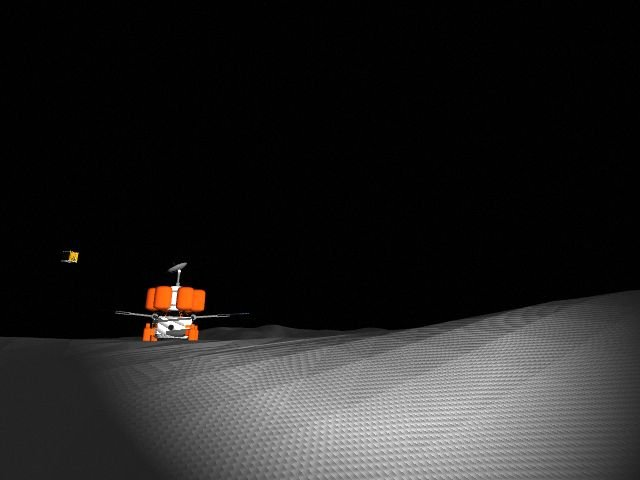cubesat: (57, 247, 81, 267)
